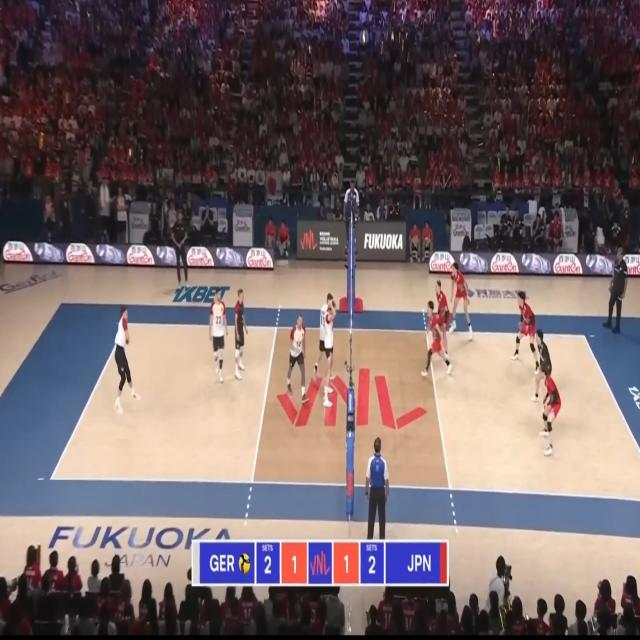ball: (278, 259, 288, 267)
